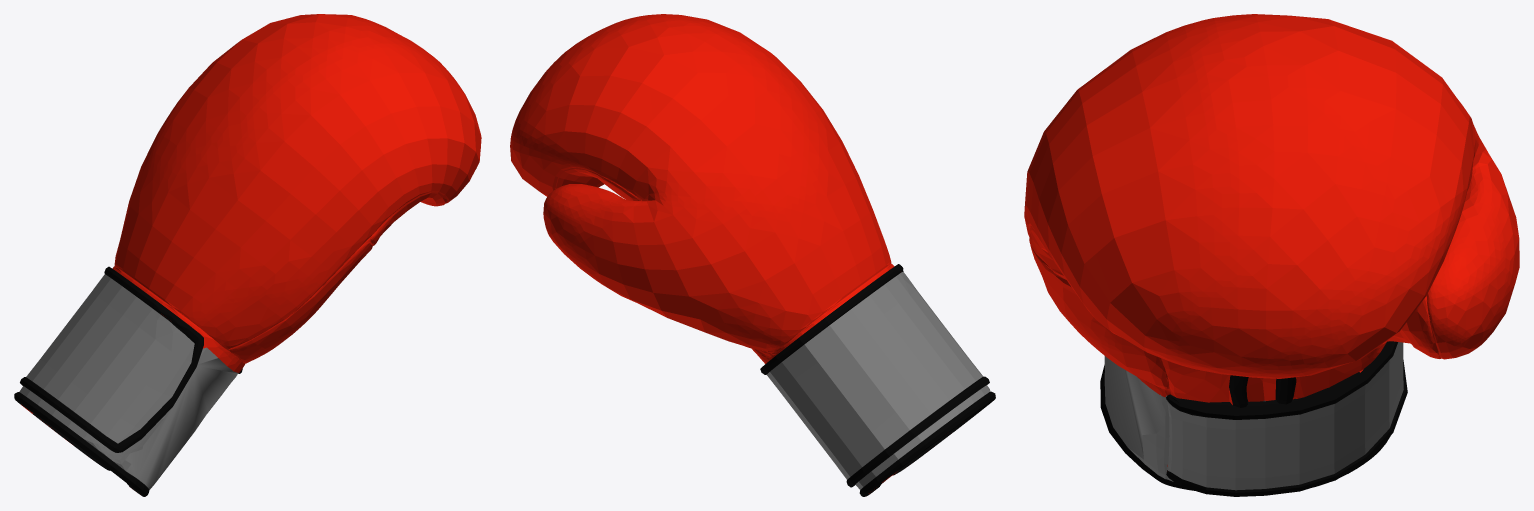
File: Red_Right_Glove .fbx
3 views of the same model, side by side, from view 1: azimuth 30°, elevation 25°; view 2: azimuth 150°, elevation 25°; view 3: azimuth 270°, elevation 25° (orthographic). The views are drawn at different scales.
Parts seen in each view (by area): view 1: 15969_Boxing_Glove_new; view 2: 15969_Boxing_Glove_new; view 3: 15969_Boxing_Glove_new.
Boxes of the visible parts, bbox=[...] form: 15969_Boxing_Glove_new: bbox=[14, 14, 481, 496]; 15969_Boxing_Glove_new: bbox=[510, 14, 995, 496]; 15969_Boxing_Glove_new: bbox=[1024, 14, 1519, 496].
Size of the model in its own units: 2146 by 1903 by 1369.
